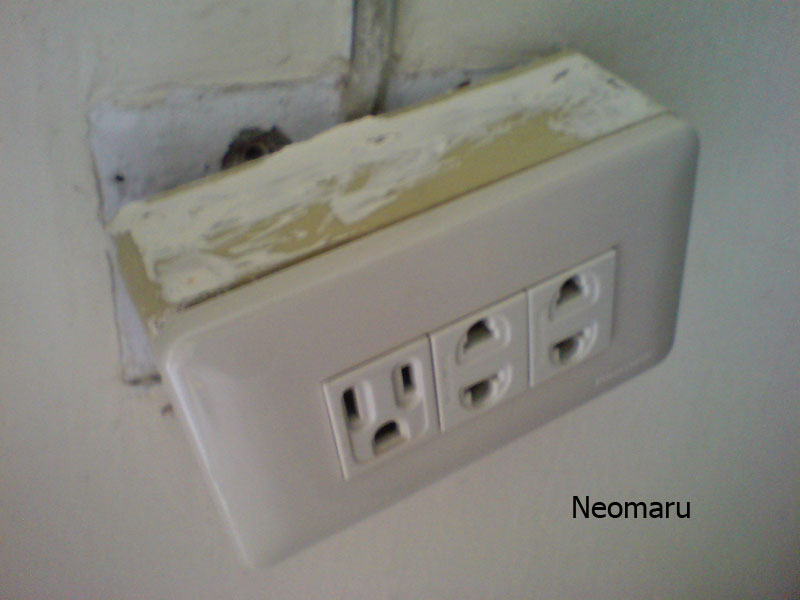Three_eye_plug: (94, 34, 706, 574)
